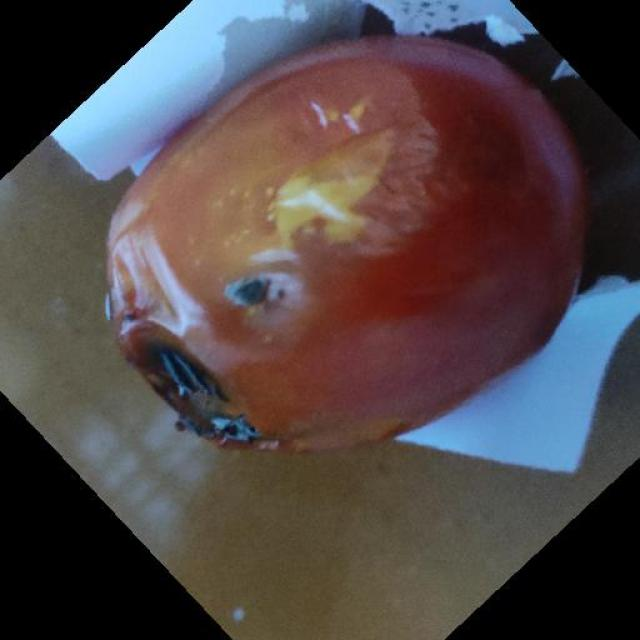Stale_tomato: (83, 120, 618, 495)
